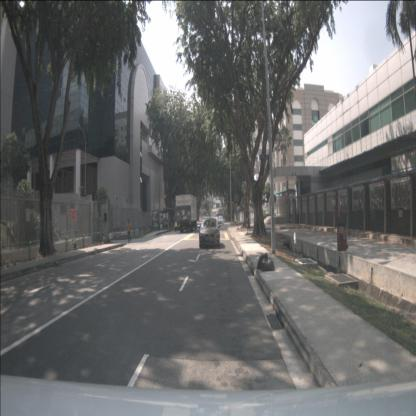human-pedestrian-adult: (127, 219, 132, 243), (163, 218, 166, 230), (160, 222, 163, 230), (166, 219, 168, 228)
vehicle-car: (199, 218, 220, 248), (174, 219, 184, 232), (218, 215, 223, 225)
vehicle-truck: (176, 195, 197, 233)
